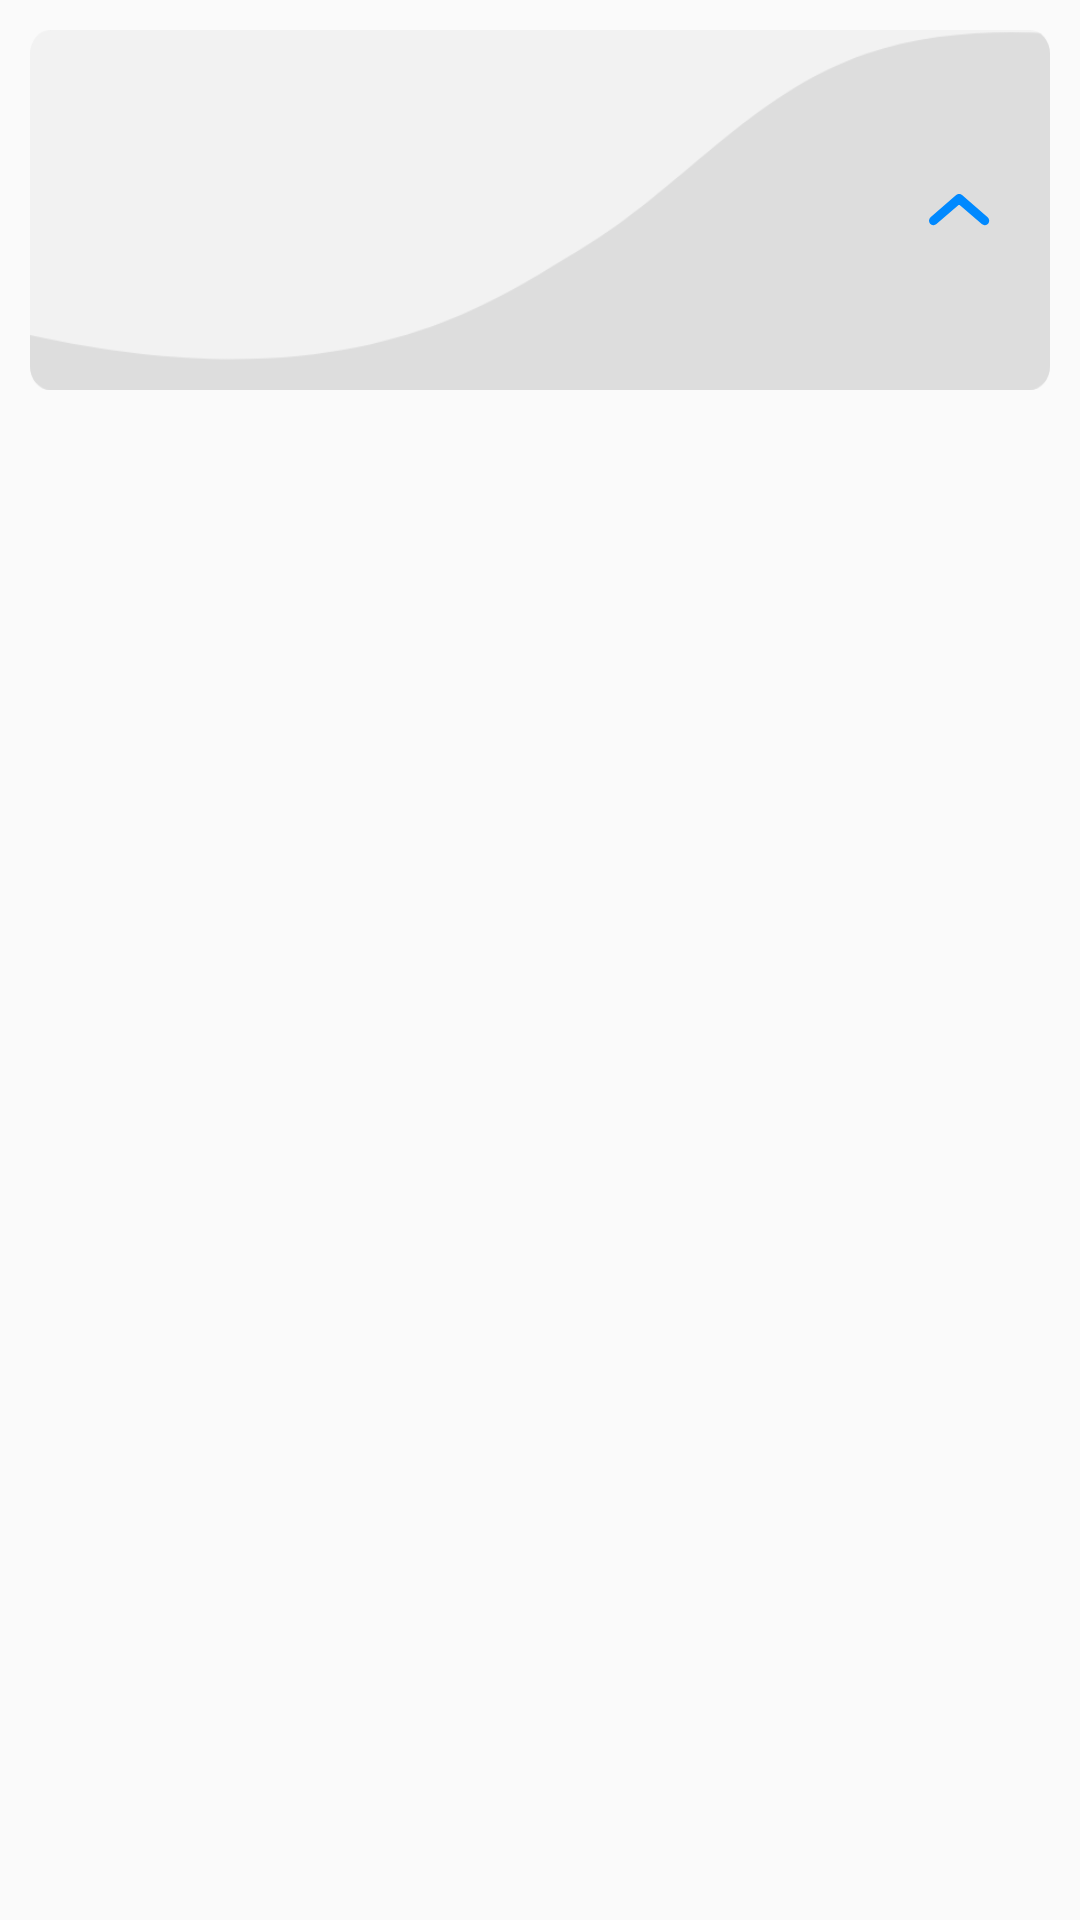

Named icons in this screenshot (1080x1920) and their bounding boxes, (x1, y1, x2, y2):
rua item disclosure: (929, 194, 990, 226)
